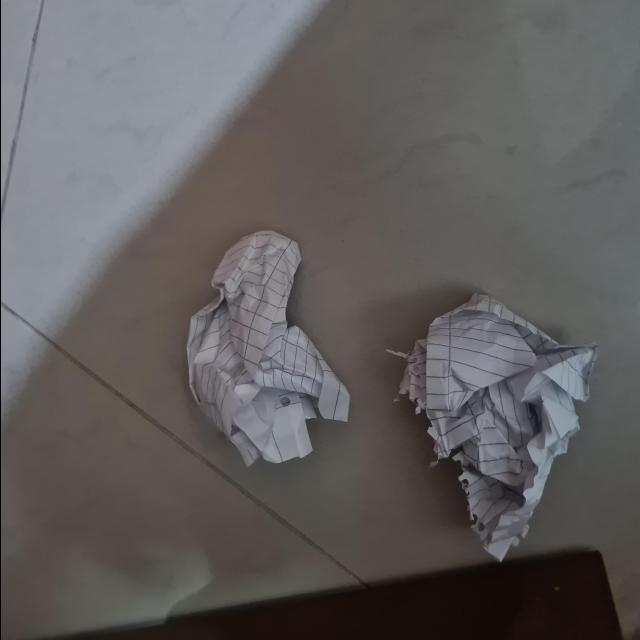kertas: (180, 217, 350, 469)
